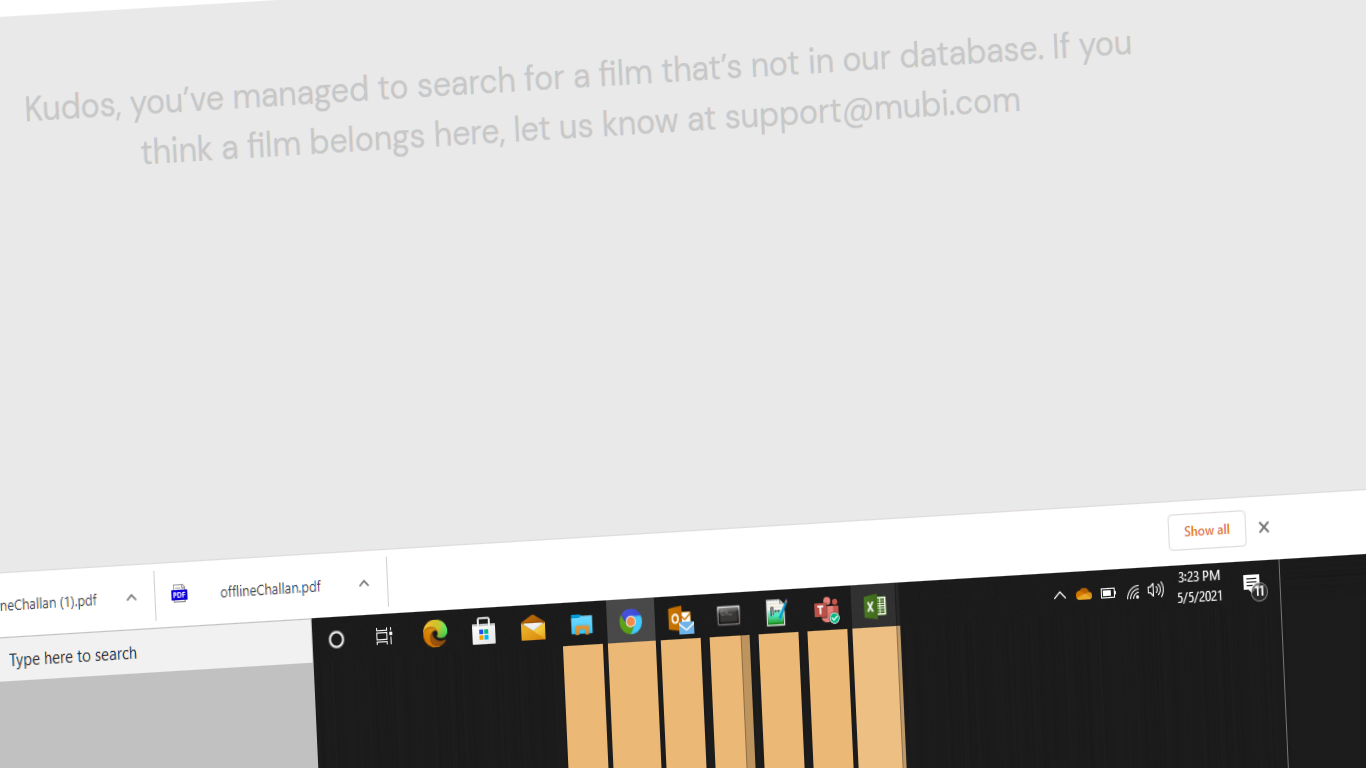noresultsfound: (9, 22, 1145, 218)
